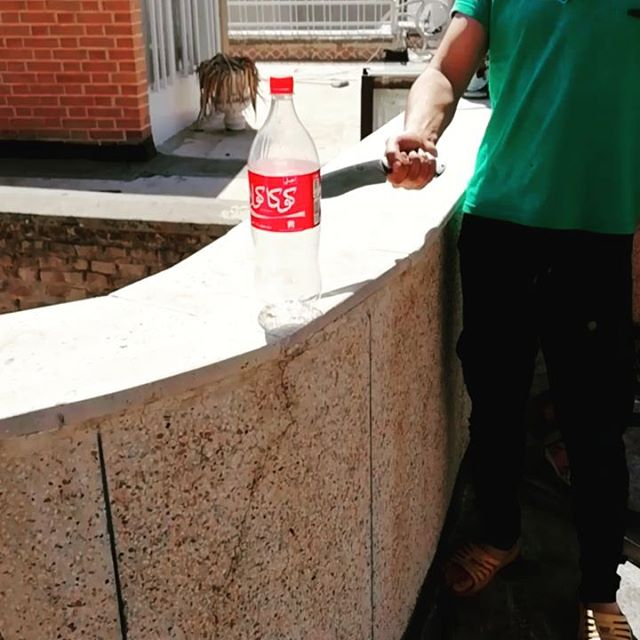knife: (320, 155, 446, 200)
